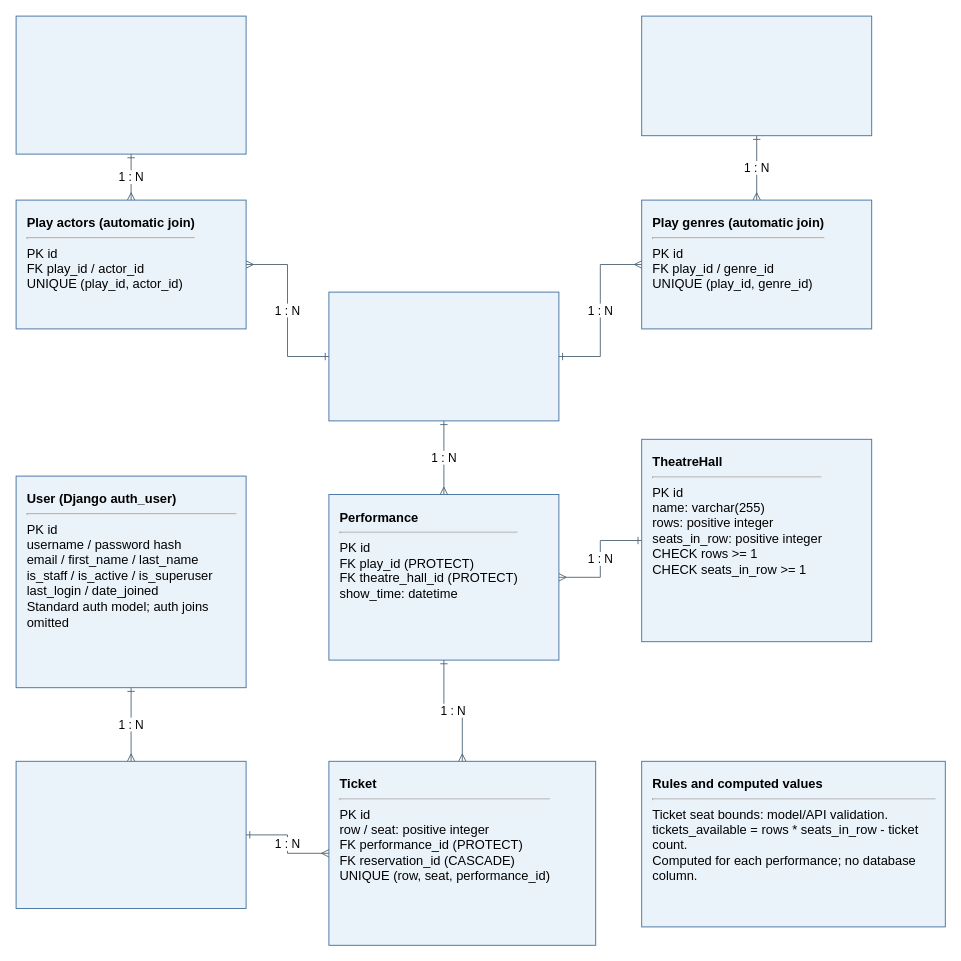
Image size: 961x961. Some labels were removed from this diagram. The centre of each missing label's shape, as x and y in pixels:
Actor PK id first_name: varchar(255) last_name: varchar(255): pixel 130 84
Genre PK id name: varchar(255): pixel 756 75
Play PK id title: varchar(255) description: text: pixel 443 356
Reservation PK id created_at: datetime (auto) FK user_id (CASCADE): pixel 130 834
